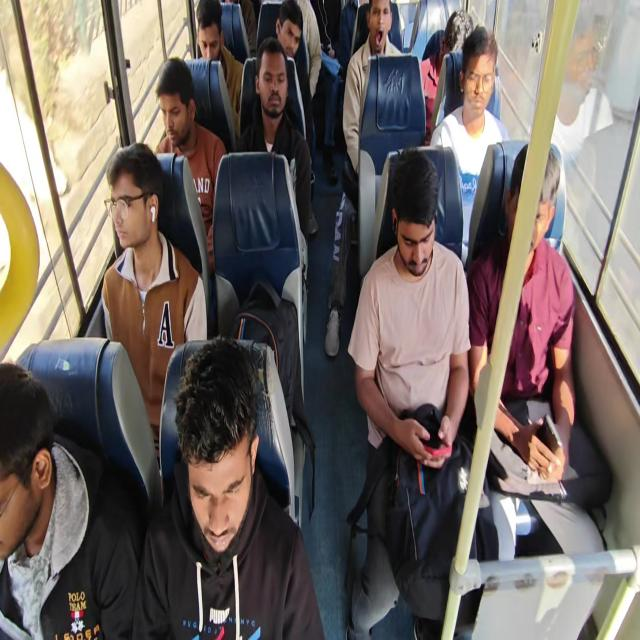person: (171, 336, 266, 568), (2, 348, 62, 574), (384, 136, 446, 287), (506, 139, 565, 278), (106, 137, 168, 256), (156, 48, 200, 156), (254, 37, 298, 135), (462, 30, 497, 150), (186, 0, 236, 64), (274, 1, 309, 69), (357, 0, 398, 54), (441, 7, 475, 58)
